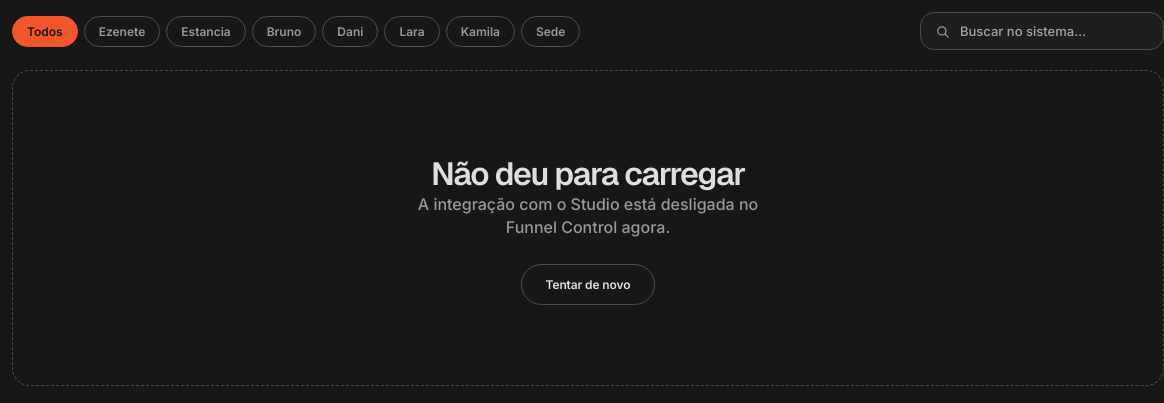
it: SystemFunnels › mostra erro e permite tentar de novo
Expected: the text "integração com o Studio está desligada" is shown, [418,194,758,237]
Click the button "Tentar de novo".
click(588, 285)  # box [521,264,656,305]
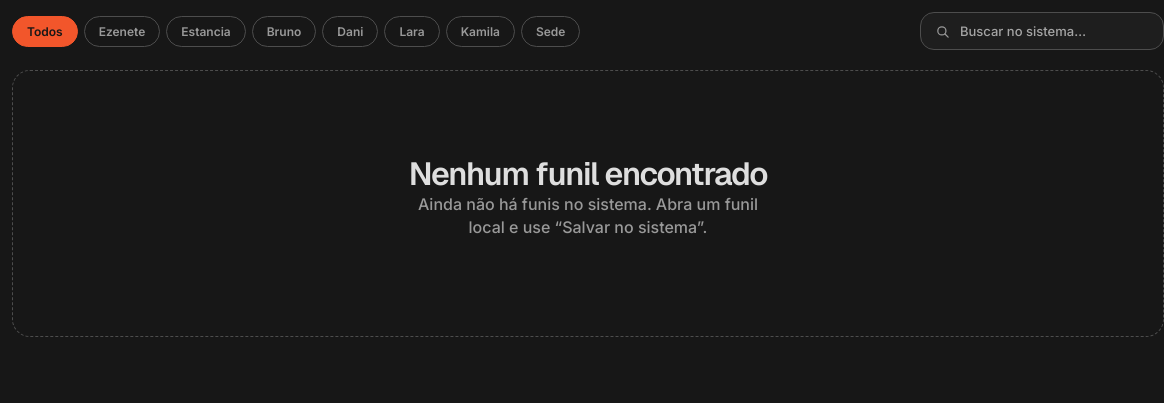
Now the heading "Nenhum funil encontrado" is shown, box [409,163,767,185]
